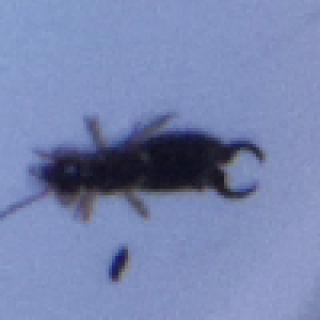earwig: (0, 107, 275, 223)
